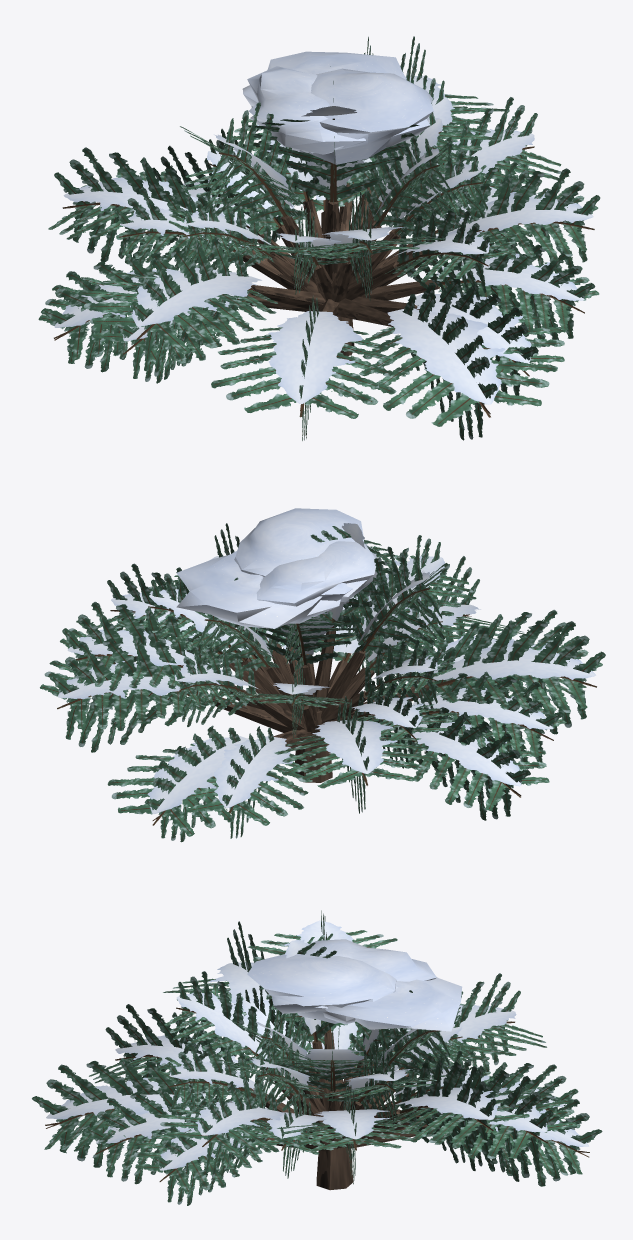
Rendered from SM_Snow_Juniper_A.glb.
3 views of the same model, one above another, from view 1: azimuth 30°, elevation 25°; view 2: azimuth 150°, elevation 25°; view 3: azimuth 270°, elevation 25° (orthographic). The views are drawn at different scales.
Visible parts, largest first — view 1: SM_Snow_Juniper_A; view 2: SM_Snow_Juniper_A; view 3: SM_Snow_Juniper_A.
Part boxes in pixels (left/top/right/bottom): SM_Snow_Juniper_A: left=38, top=36, right=600, bottom=440; SM_Snow_Juniper_A: left=40, top=508, right=605, bottom=842; SM_Snow_Juniper_A: left=32, top=910, right=602, bottom=1205.
Bounding box in the file's own units: 1.13 × 0.5714 × 1.25.
Materials: 4 (4 with a texture image).
